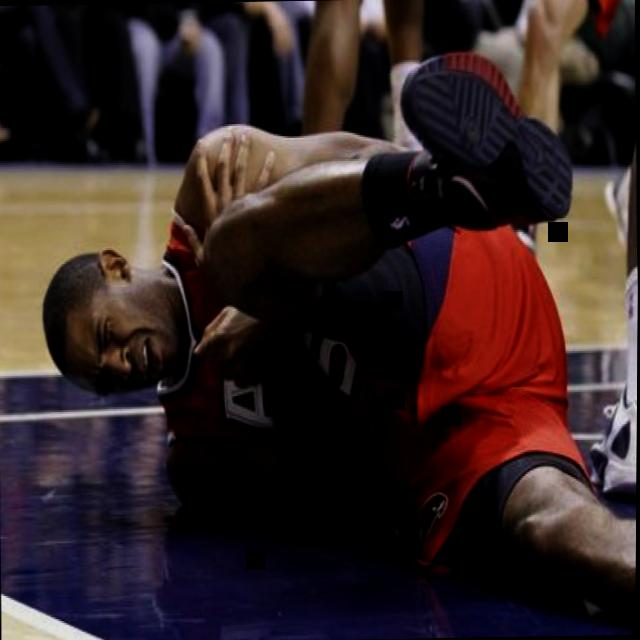Fall-Detected: (22, 34, 619, 606)
